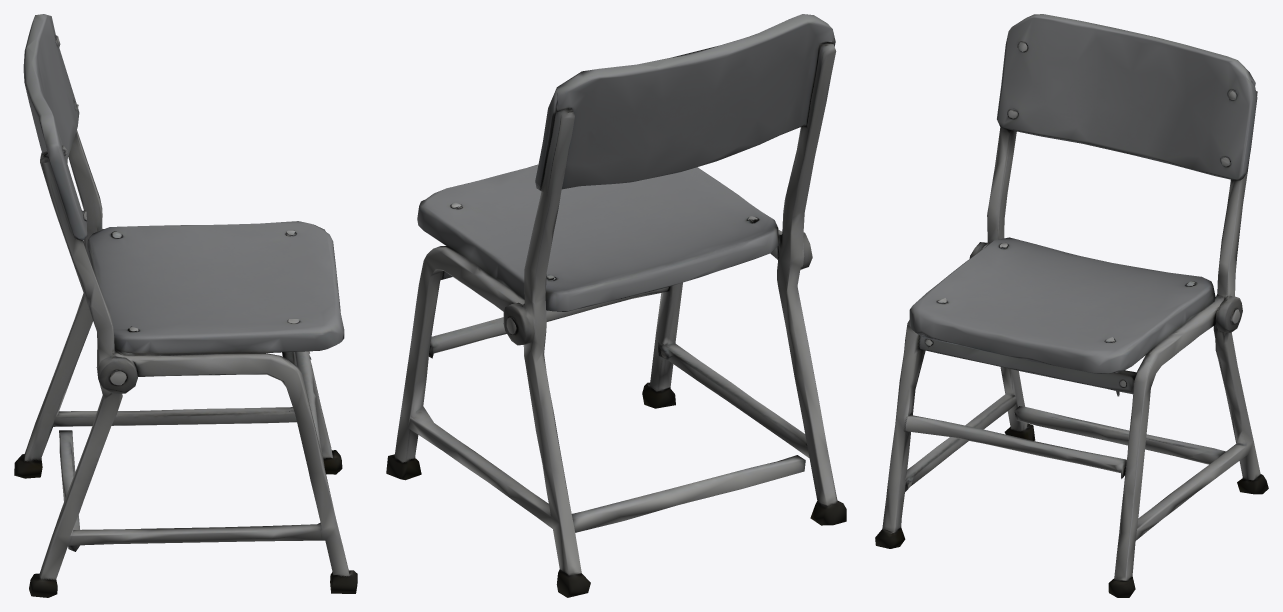
3 views of the same model, side by side, from view 1: azimuth 30°, elevation 25°; view 2: azimuth 150°, elevation 25°; view 3: azimuth 270°, elevation 25° (orthographic). The views are drawn at different scales.
Visible parts, largest first — view 1: tripo_node_deec4b08-0da8-419e-987e-49bee657864f; view 2: tripo_node_deec4b08-0da8-419e-987e-49bee657864f; view 3: tripo_node_deec4b08-0da8-419e-987e-49bee657864f.
Boxes of the visible parts, x1=… form: tripo_node_deec4b08-0da8-419e-987e-49bee657864f: x1=14, y1=14, x2=357, y2=597; tripo_node_deec4b08-0da8-419e-987e-49bee657864f: x1=386, y1=14, x2=846, y2=597; tripo_node_deec4b08-0da8-419e-987e-49bee657864f: x1=875, y1=14, x2=1268, y2=597.
Bounding box in the file's own units: 0.8158 × 1 × 0.8257.
1 material, 1 textured.
